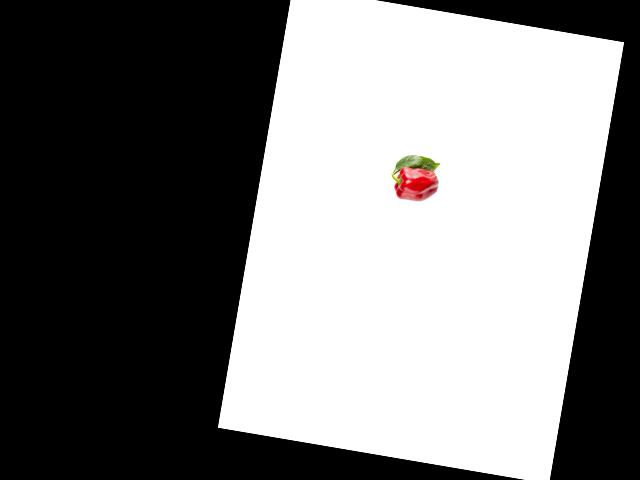bell_pepper: (387, 161, 442, 209)
